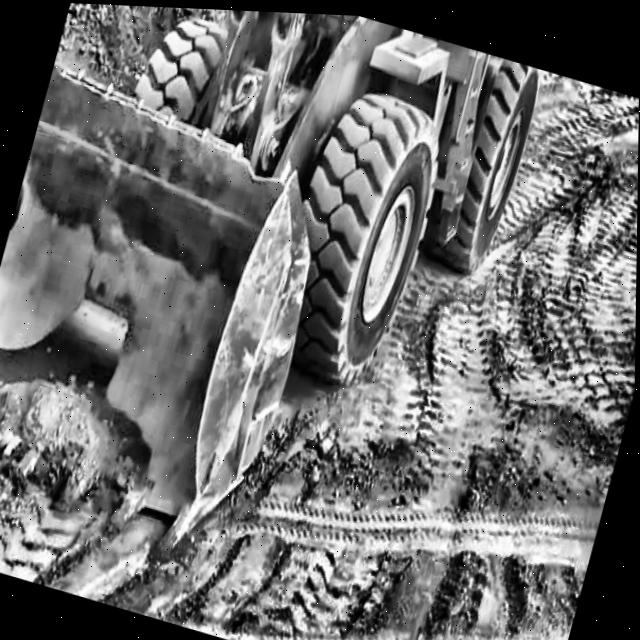buldozerpayloadergrader: (0, 0, 566, 630)
